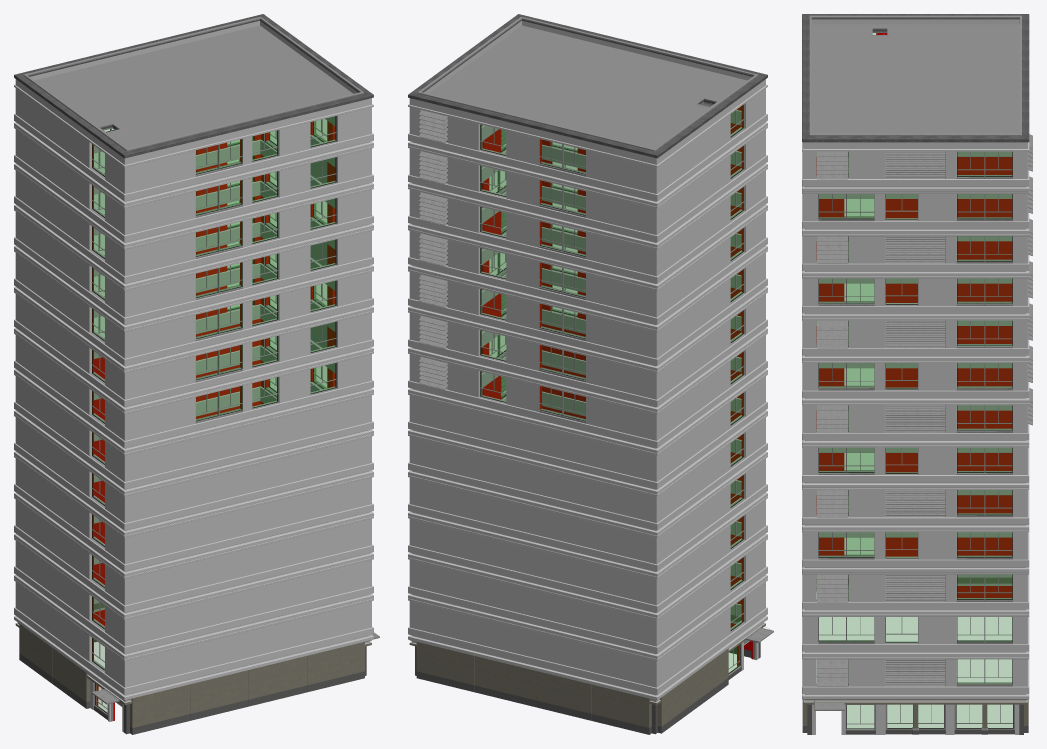
File: SM_Building23.fbx
3 renders of one model, left to right at view 1: azimuth 30°, elevation 25°; view 2: azimuth 150°, elevation 25°; view 3: azimuth 270°, elevation 25°, orthographic. The views are drawn at different scales.
Visible parts, largest first — view 1: SM_Building_23; view 2: SM_Building_23; view 3: SM_Building_23.
Boxes of the visible parts, bbox=[...] form: SM_Building_23: bbox=[14, 14, 379, 734]; SM_Building_23: bbox=[408, 14, 773, 734]; SM_Building_23: bbox=[802, 14, 1032, 734].
Size of the model in its own units: 2816 by 5742 by 2004.
